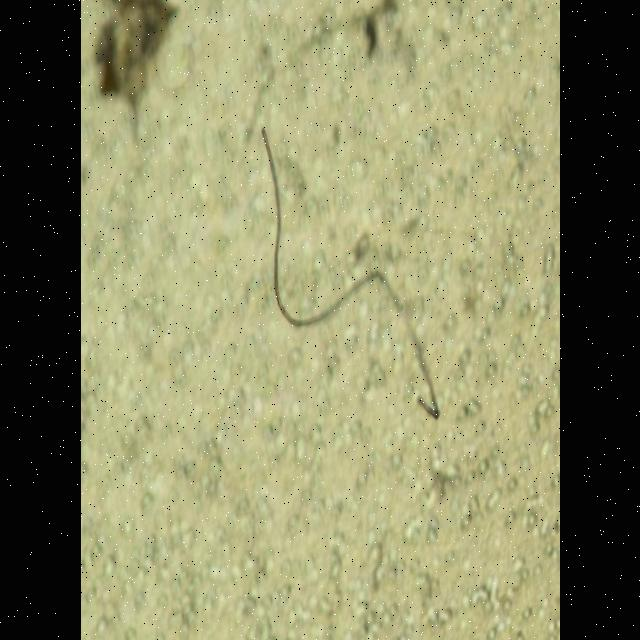Fibre: (260, 125, 440, 422)
